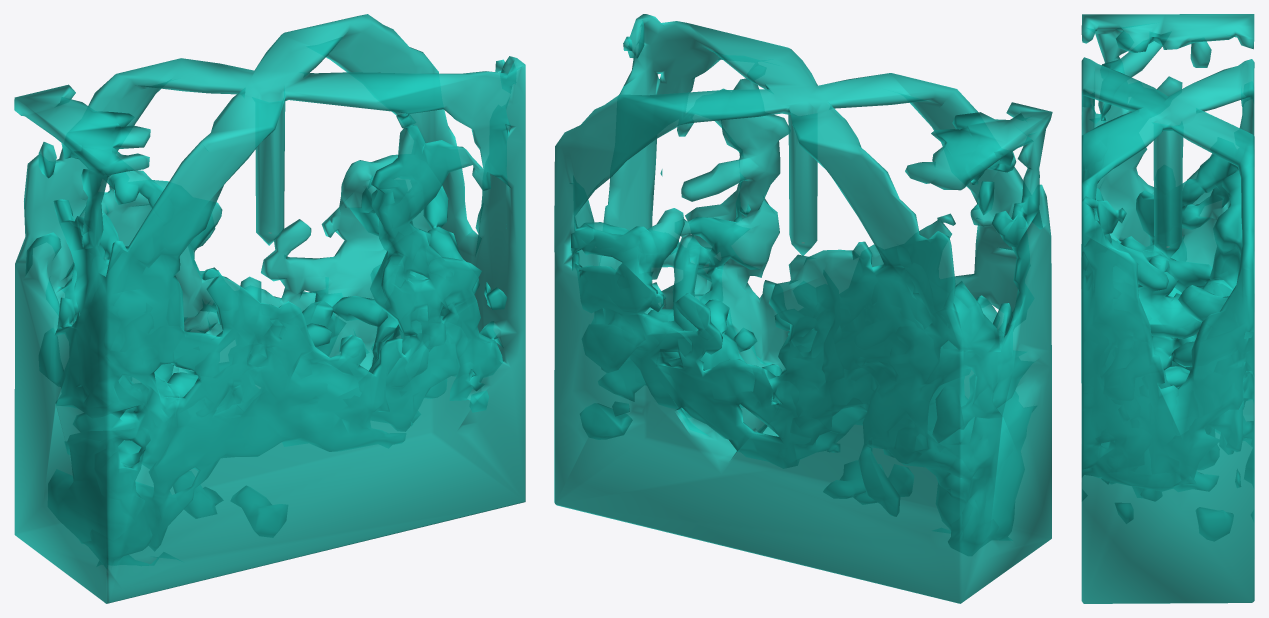
3 renders of one model, left to right at view 1: azimuth 30°, elevation 25°; view 2: azimuth 150°, elevation 25°; view 3: azimuth 270°, elevation 25°, orthographic. The views are drawn at different scales.
Visible parts, largest first — view 1: Liquid_Domain; view 2: Liquid_Domain; view 3: Liquid_Domain.
Part boxes in pixels (x1=…): Liquid_Domain: x1=14, y1=14, x2=525, y2=603; Liquid_Domain: x1=554, y1=14, x2=1052, y2=603; Liquid_Domain: x1=1081, y1=14, x2=1254, y2=603.
Bounding box in the file's own units: 885 × 884 × 345.
